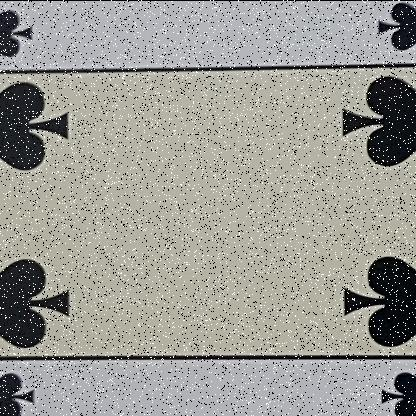4s: (359, 1, 415, 62), (0, 1, 48, 69), (0, 362, 49, 415)
